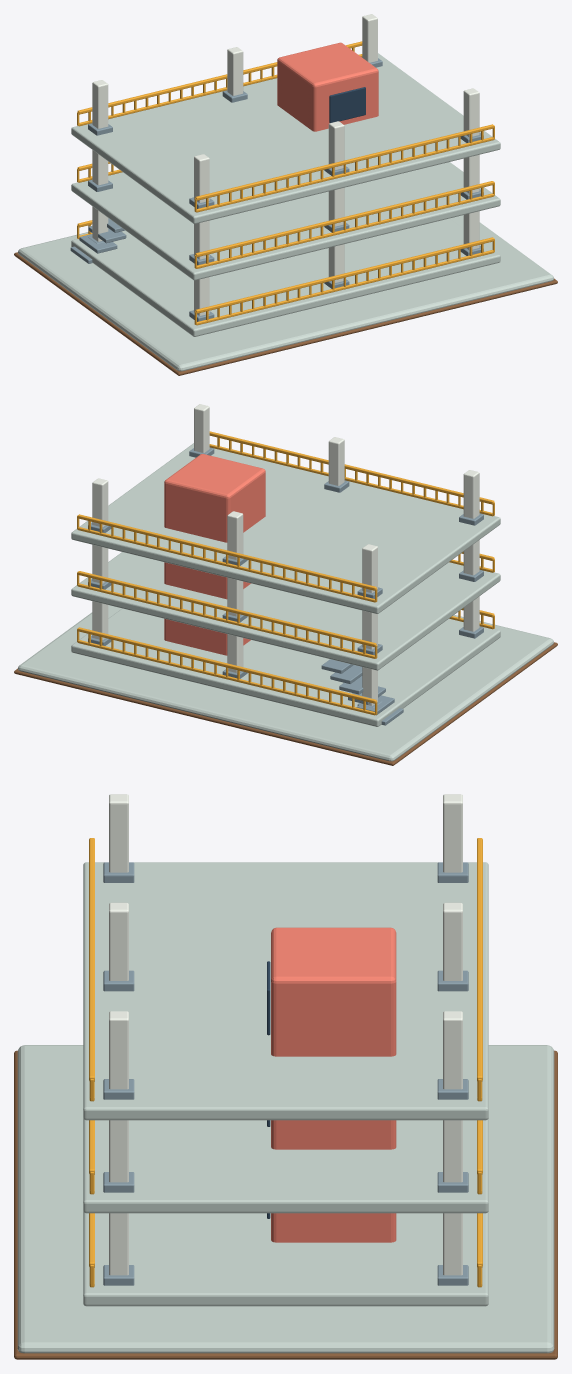
File: SM_Building_Stage2.fbx
3 renders of one model, top to bottom at view 1: azimuth 30°, elevation 25°; view 2: azimuth 150°, elevation 25°; view 3: azimuth 270°, elevation 25°, orthographic. The views are drawn at different scales.
Parts seen in each view (by area): view 1: Structural floor slab.002, Beveled site foundation.002, Structural floor slab.001, Structural floor slab, Construction elevator core, Foundation shadow course.002, Balcony handrail.002, Balcony handrail.004, Balcony handrail.006, Balcony bottom rail.006, Balcony bottom rail.002, Balcony bottom rail.004 (+16 smaller); view 2: Structural floor slab.002, Beveled site foundation.002, Structural floor slab.001, Structural floor slab, Construction elevator core, Foundation shadow course.002, Balcony handrail.003, Balcony handrail.005, Balcony handrail.007, Balcony handrail.006, Balcony bottom rail.007, Balcony bottom rail.003 (+16 smaller); view 3: Structural floor slab.002, Beveled site foundation.002, Structural floor slab, Structural floor slab.001, Construction elevator core, Foundation shadow course.002, Structural column.012, Structural column.013, Structural column.014, Structural column.015, Structural column.016, Structural column.017 (+6 smaller).
Part boxes in pixels (x1,y1,x2,y2): Structural floor slab.002: (71,53,500,223); Beveled site foundation.002: (18,215,553,371); Structural floor slab.001: (71,162,500,280); Structural floor slab: (71,218,500,336); Construction elevator core: (277,42,378,131); Foundation shadow course.002: (14,252,557,375); Balcony handrail.002: (195,237,494,313); Balcony handrail.004: (195,181,494,257); Balcony handrail.006: (195,124,494,200); Balcony bottom rail.006: (196,137,494,212); Balcony bottom rail.002: (196,250,494,325); Balcony bottom rail.004: (196,193,494,268); Structural floor slab.002: (71,443,500,613); Beveled site foundation.002: (18,605,553,761); Structural floor slab.001: (71,552,500,670); Structural floor slab: (71,608,500,726); Construction elevator core: (164,454,265,655); Foundation shadow course.002: (14,642,557,765); Balcony handrail.003: (77,627,376,703); Balcony handrail.005: (77,571,376,647); Balcony handrail.007: (77,514,376,590); Balcony handrail.006: (209,431,494,504); Balcony bottom rail.007: (77,527,375,602); Balcony bottom rail.003: (77,640,375,715); Structural floor slab.002: (83,862,488,1120); Beveled site foundation.002: (17,1045,554,1353); Structural floor slab: (83,1211,488,1306); Structural floor slab.001: (83,1118,488,1213); Construction elevator core: (271,927,396,1242); Foundation shadow course.002: (14,1050,557,1359); Structural column.012: (109,794,128,872); Structural column.013: (443,794,462,872); Structural column.014: (109,902,128,980); Structural column.015: (443,902,462,980); Structural column.016: (109,1011,128,1089); Structural column.017: (443,1011,462,1089).
Size of the model in its own units: 12.12 by 5.58 by 9.12.
